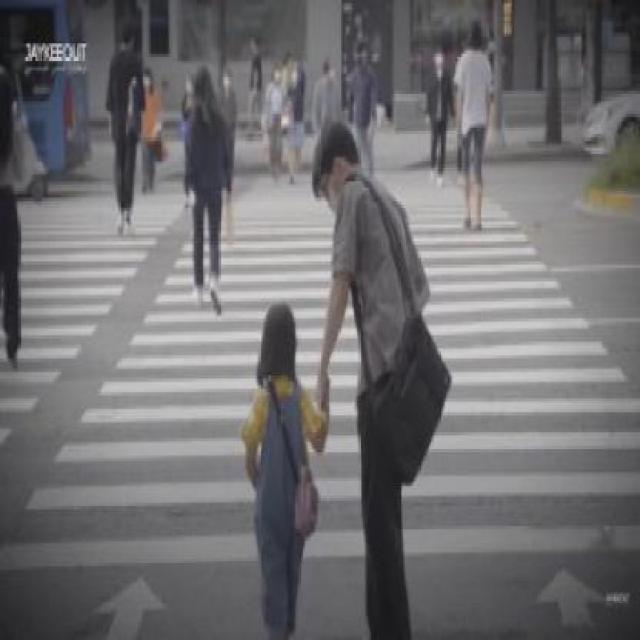Person: (314, 126, 428, 639), (240, 301, 332, 637), (186, 65, 229, 312), (107, 23, 148, 237), (456, 17, 493, 231), (346, 40, 377, 183), (426, 44, 454, 176), (138, 66, 164, 194), (285, 65, 310, 183), (313, 51, 344, 135), (267, 64, 284, 179)
